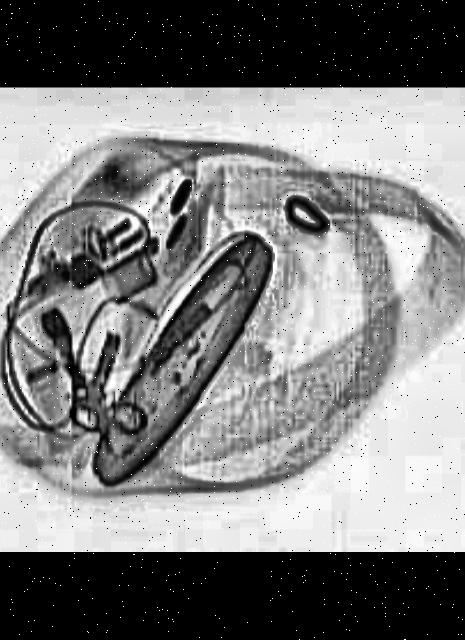Scissors: (58, 325, 152, 436)
